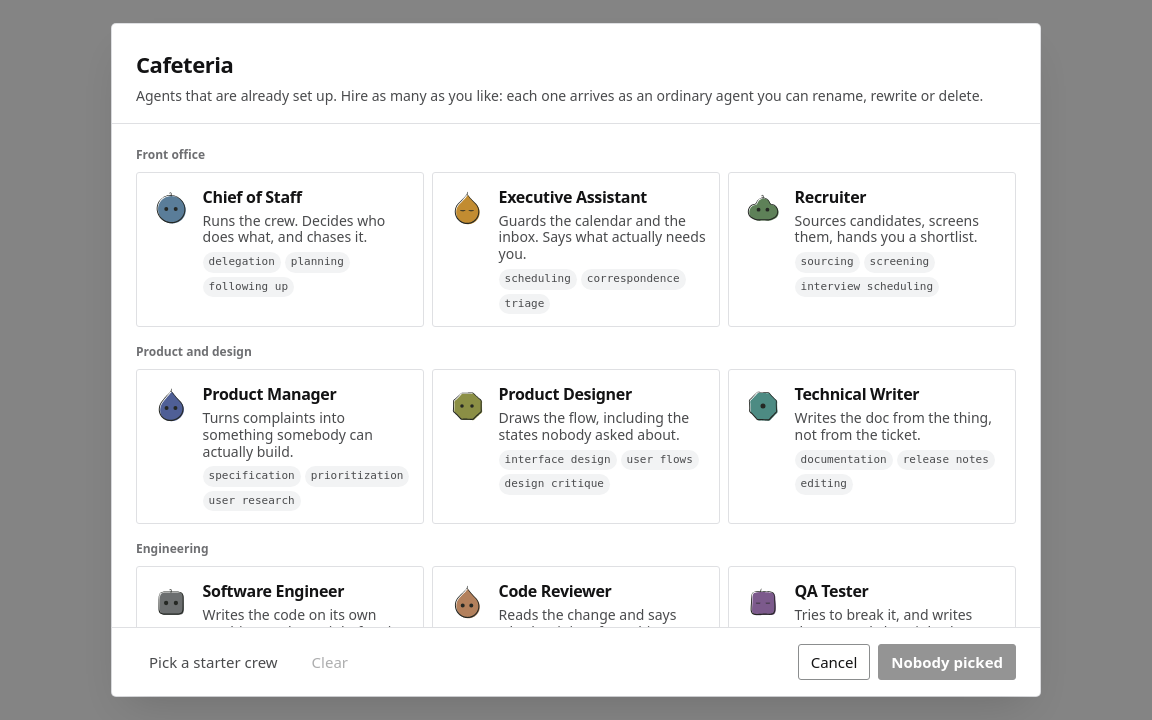
Test: when a hire is refused › says why and leaves the selection alone
The image size is (1152, 720).
Click the button "Chief of Staff" at (280, 249), box [136,172,424,327]
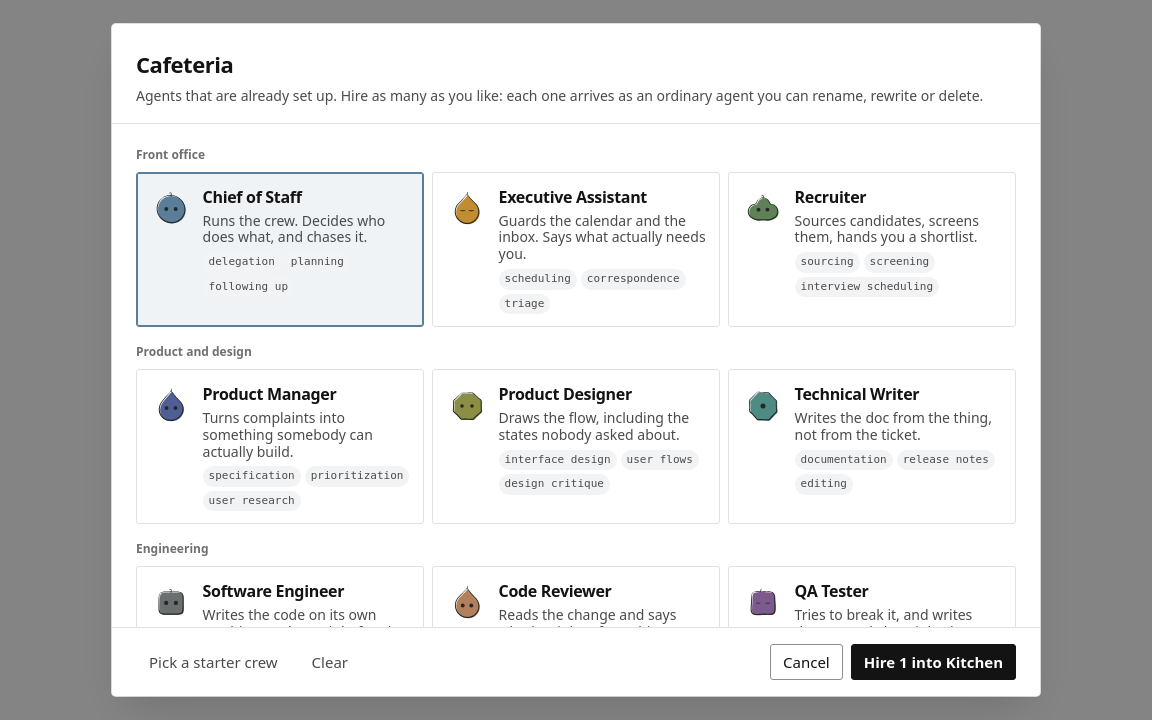
Click the button "Hire 1 into Kitchen" at (933, 662), box [851,644,1016,680]
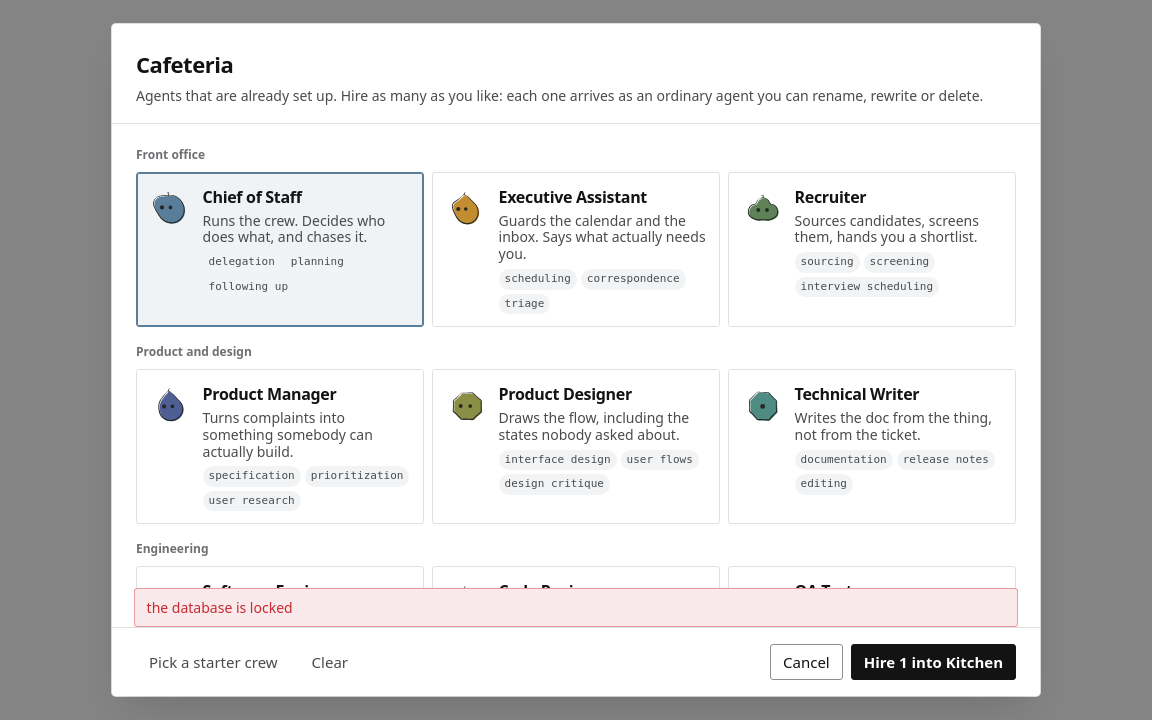
Check: the button "Hire 1 into Kitchen" is enabled, box [851,644,1016,680]
Check: the text "the database is locked" is shown, box [147,597,293,618]
